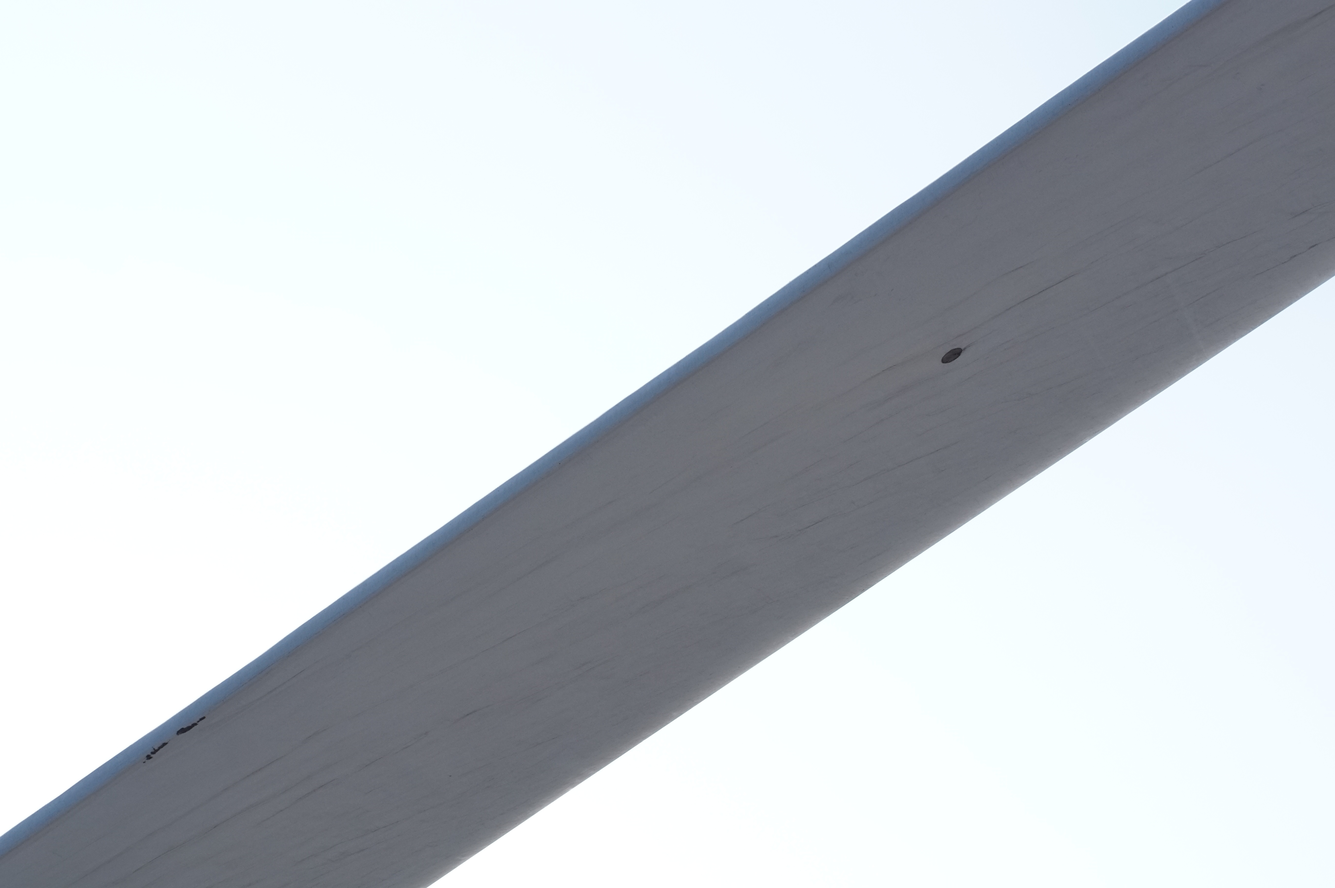Damage: (941, 347, 963, 364)
